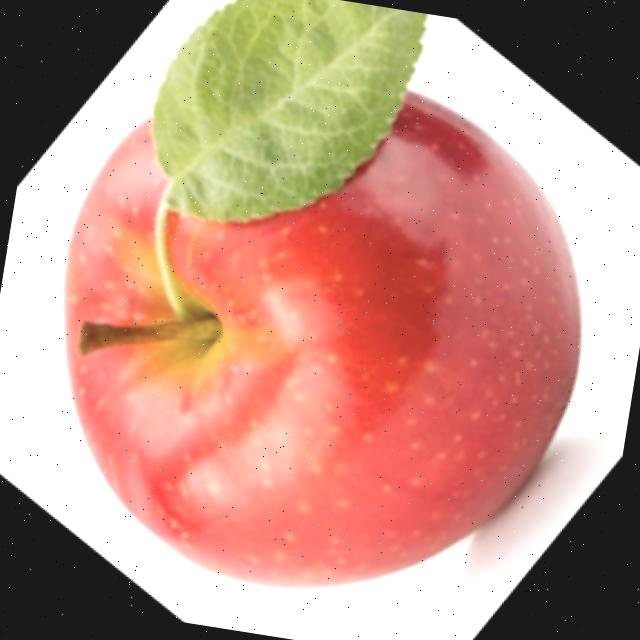Ripe: (12, 28, 623, 632)
